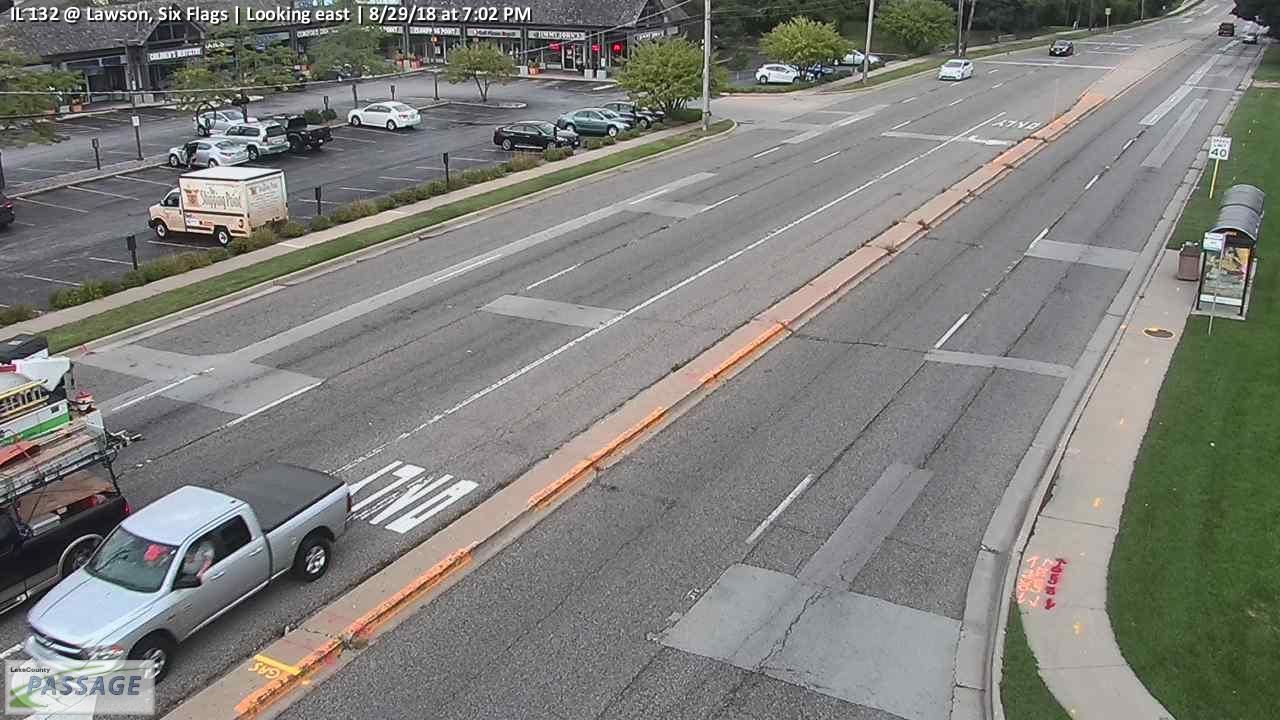SUV: (209, 120, 290, 161), (595, 101, 662, 131), (755, 63, 815, 86), (827, 48, 881, 67), (790, 62, 835, 81), (1218, 23, 1234, 37)
Sedan: (493, 120, 580, 152), (168, 138, 249, 170), (558, 107, 631, 138), (347, 100, 422, 130), (936, 58, 976, 80), (1048, 39, 1074, 56)
Truck: (23, 461, 354, 687), (149, 166, 289, 246), (263, 114, 333, 155)
